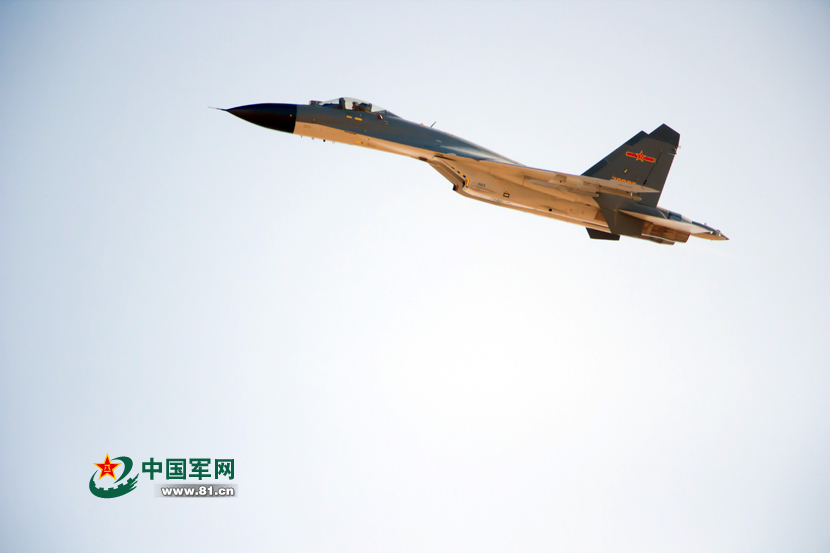airplane: (194, 90, 735, 257)
